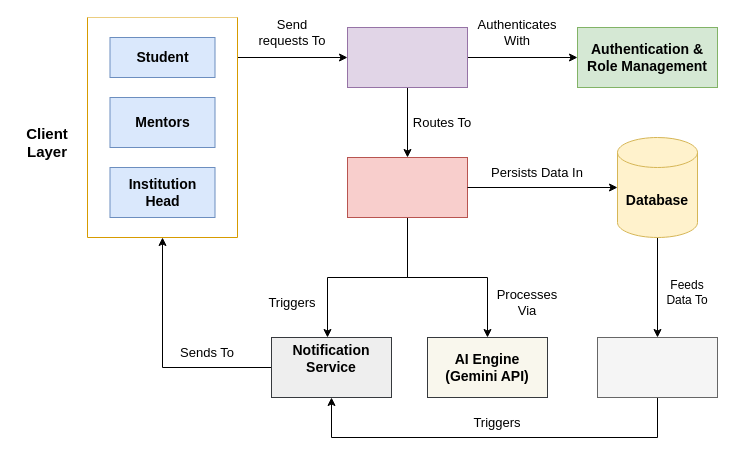
Image size: 735x463. Some labels were removed from this diagram. Here are the shapes that lost their labels. From the top down, the box of each, then its label:
(346, 26, 468, 88): API Gateway
(346, 156, 468, 218): Server
(596, 336, 718, 398): Analytics & Insights Module
